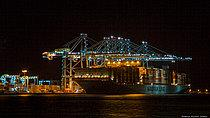Ship: (41, 32, 196, 99)
